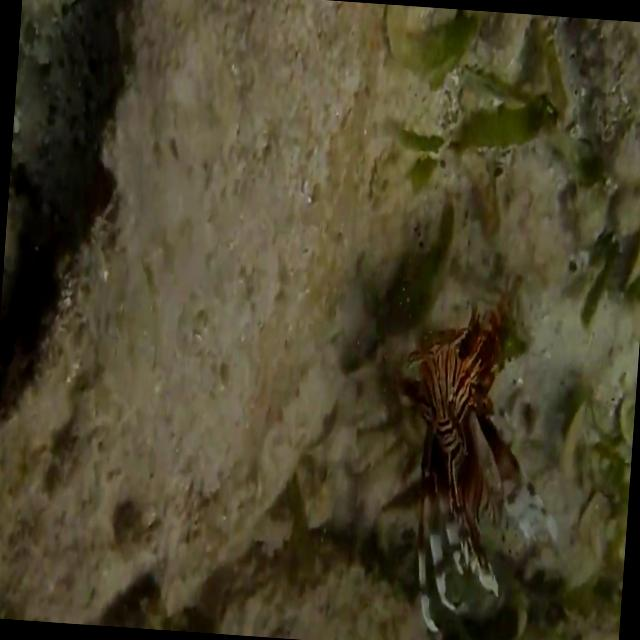Aslan Baligi: (351, 306, 581, 636)
